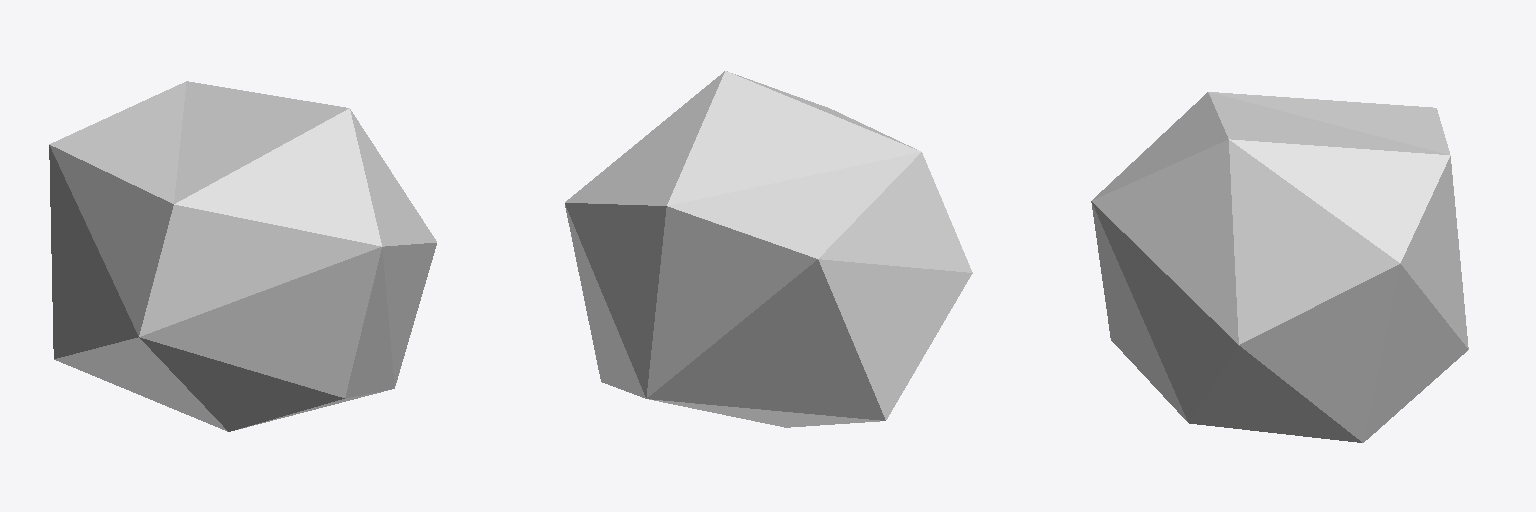
File: asteroid.obj
The picture shows the model from 3 angles: view 1: azimuth 30°, elevation 25°; view 2: azimuth 150°, elevation 25°; view 3: azimuth 270°, elevation 25°; orthographic projection.
Parts seen in each view (by area): view 1: default_mesh; view 2: default_mesh; view 3: default_mesh.
Part boxes in pixels (left/top/right/bottom): default_mesh: left=49, top=81, right=436, bottom=431; default_mesh: left=565, top=71, right=972, bottom=427; default_mesh: left=1091, top=92, right=1468, bottom=442.
Size of the model in its own units: 0.0957 by 0.0852 by 0.0972.